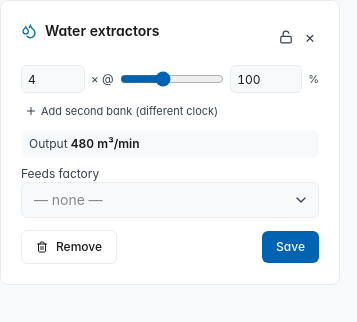
Test: <WaterExtractorPopover /> — factory binding › orders the factory picker nearest-first and states the distance
Click the dropdown labelled "Feeds factory".
click(170, 200)  # box [21, 182, 319, 218]
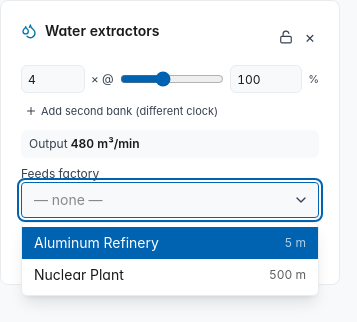
Check: the option "Aluminum Refinery 5 m" is shown, box [22, 227, 318, 259]
